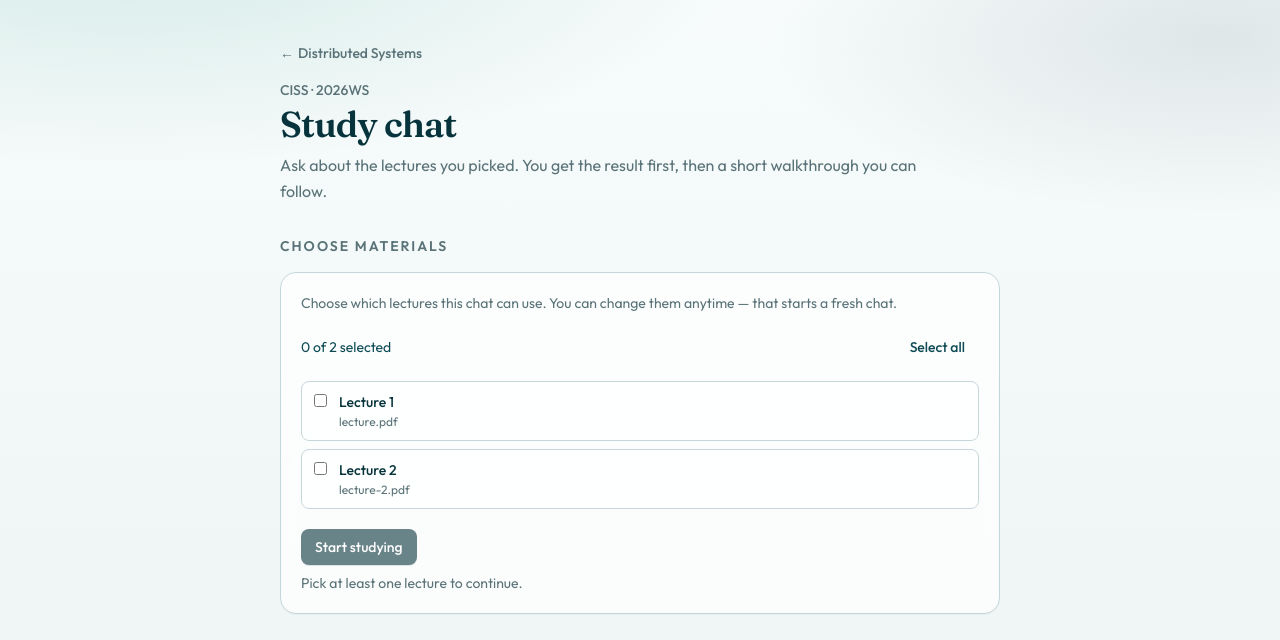
it: course study chat page › keeps the current lecture selection when changing lectures
Click the checkbox labelled "Lecture 1 lecture.pdf" at x=320, y=400, box [314,394,327,407]
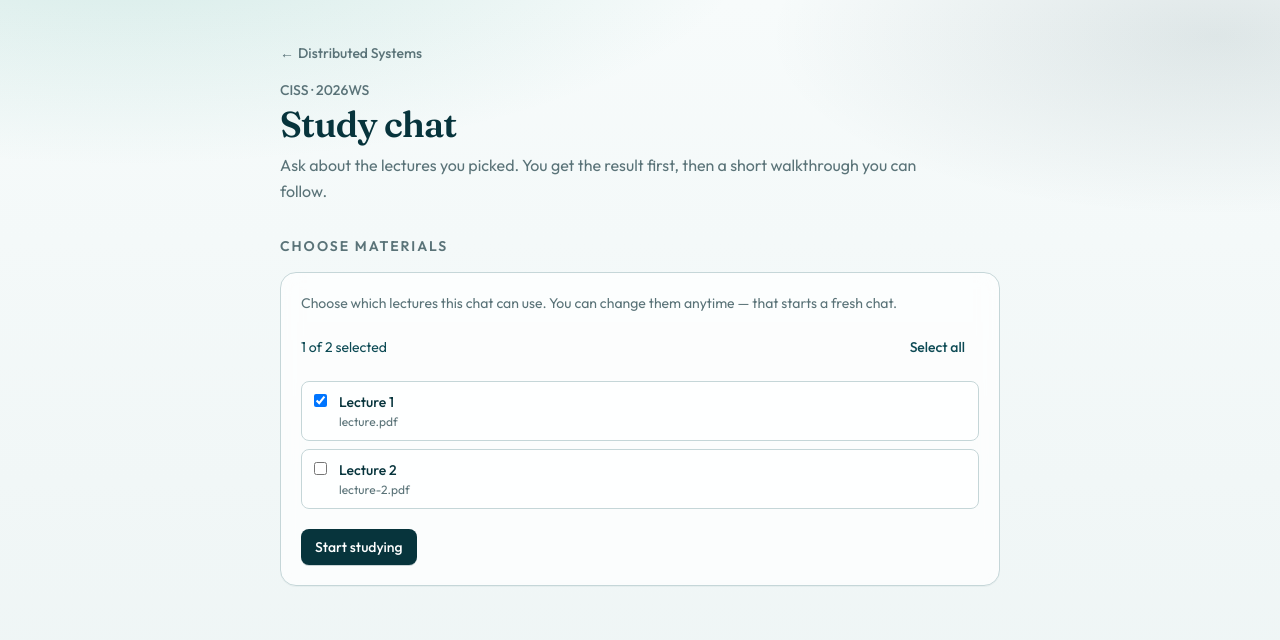
Click the button "Start studying" at x=359, y=547, box [301,529,417,565]
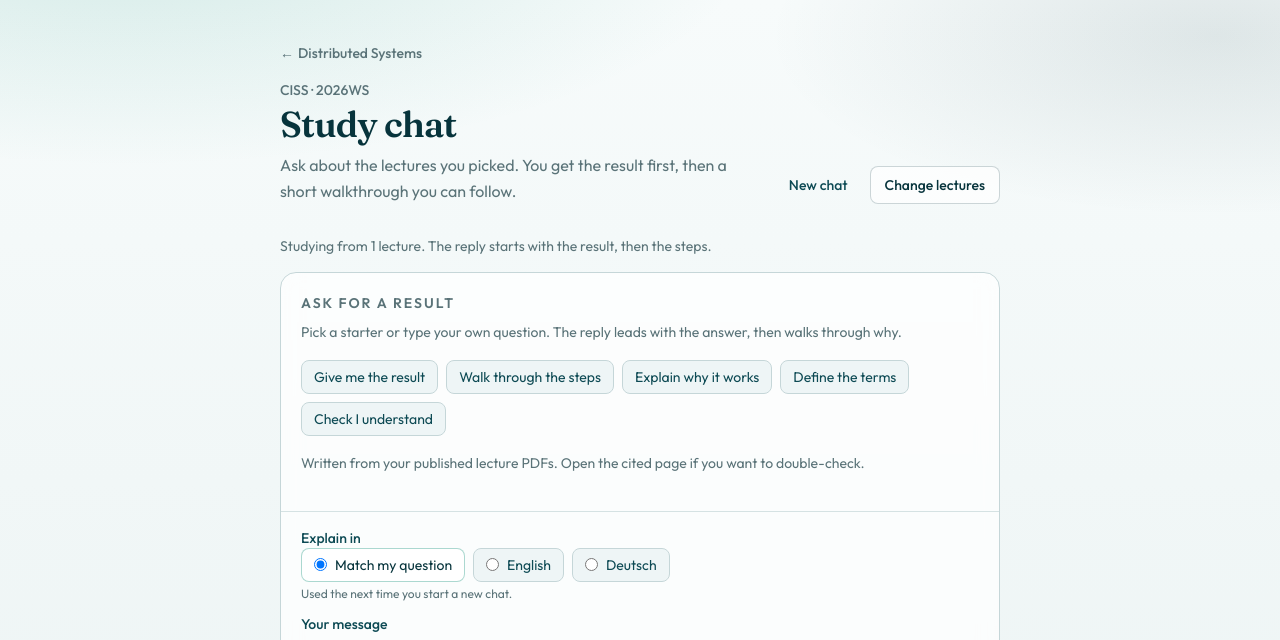
Now the text "Studying from 1 lecture" is shown, box [280,237,712,255]
Click the button "Change lectures" at x=935, y=185, box [870,166,1000,204]
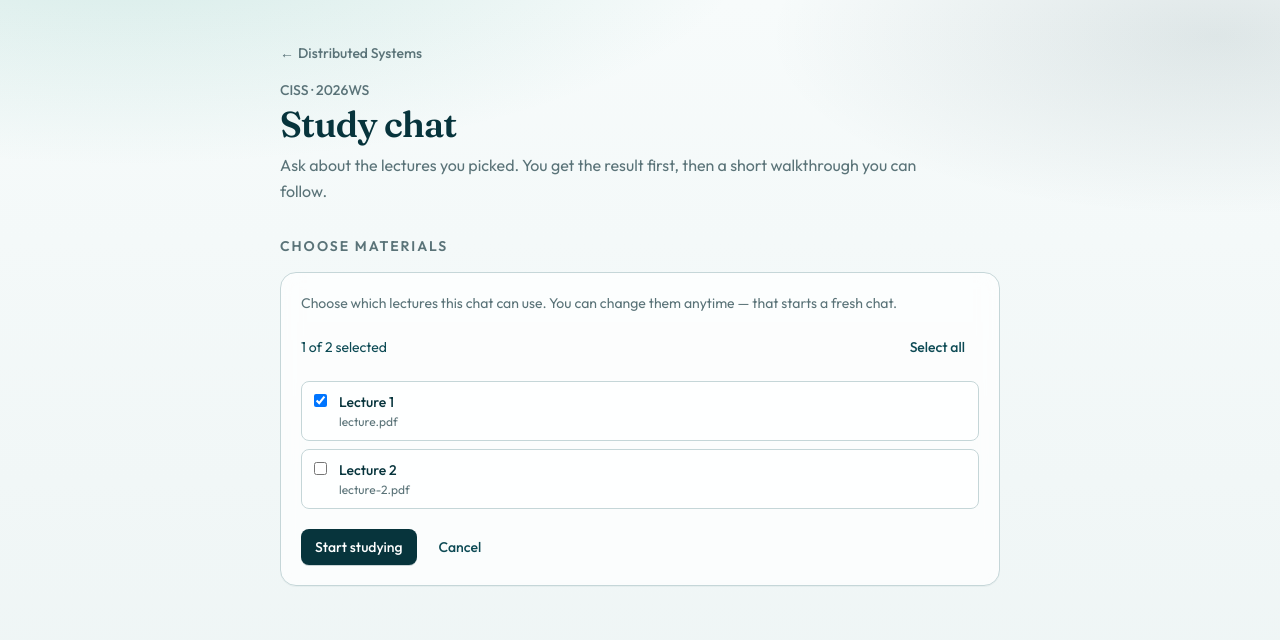
Now the text "1 of 2 selected" is shown, box [301,337,387,357]
Now the checkbox labelled "Lecture 1 lecture.pdf" is checked, box [314,394,327,407]
Now the checkbox labelled "Lecture 2 lecture-2.pdf" is not checked, box [314,462,327,475]
